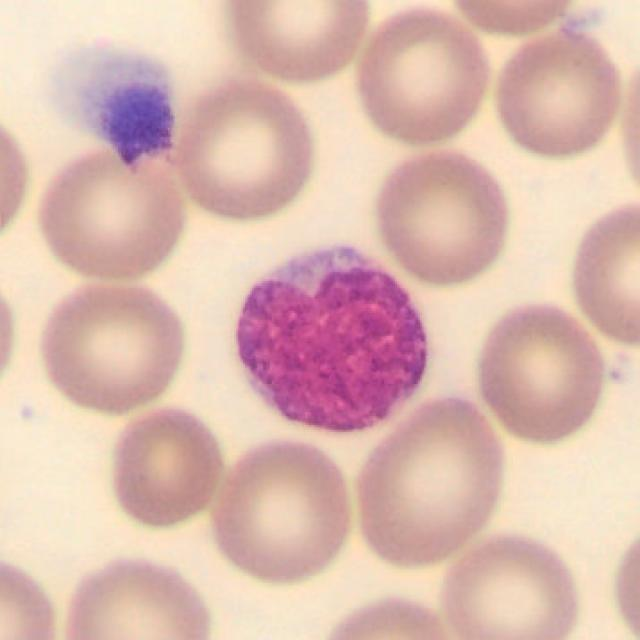Monocito: (240, 243, 431, 430)
